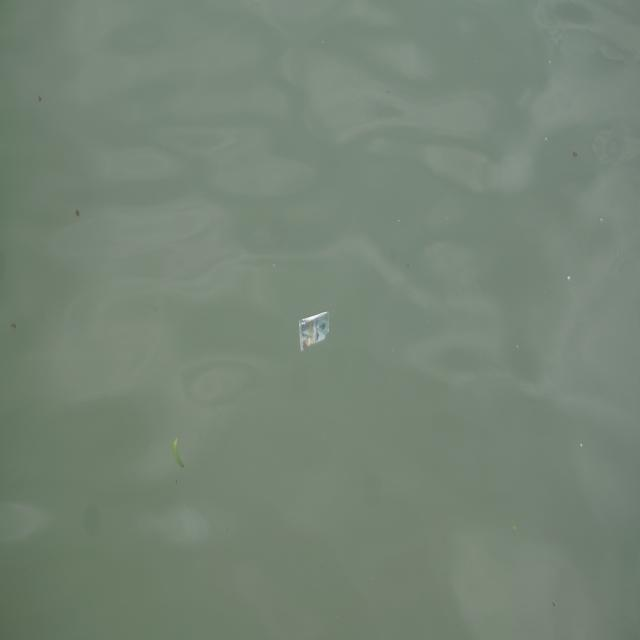Bungkus Minuman: (297, 303, 335, 353)
